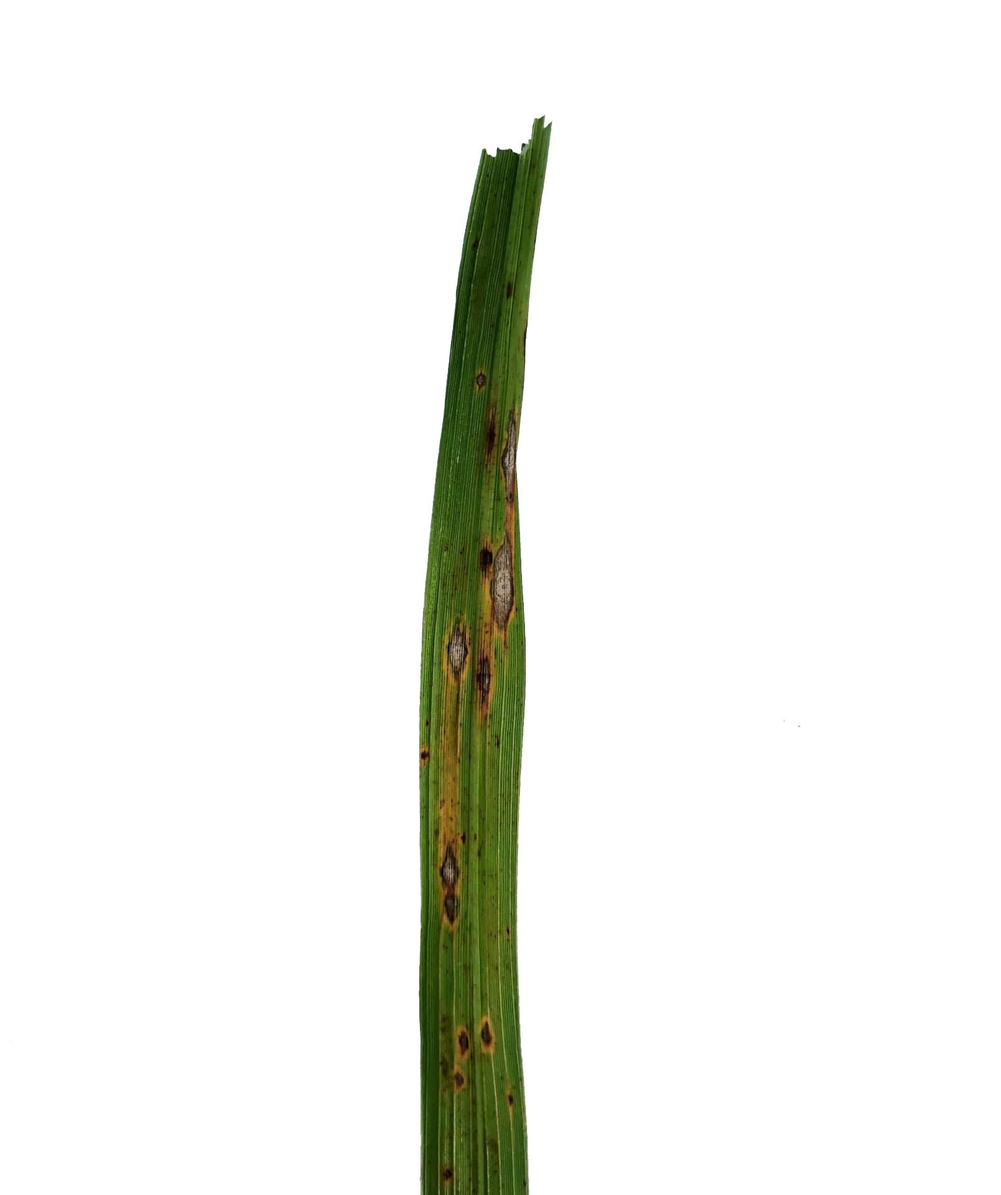Rice blast: (423, 838, 475, 940), (486, 527, 518, 639), (439, 611, 476, 694), (496, 420, 522, 509), (467, 645, 496, 703), (455, 1009, 477, 1066), (477, 1013, 505, 1056)
